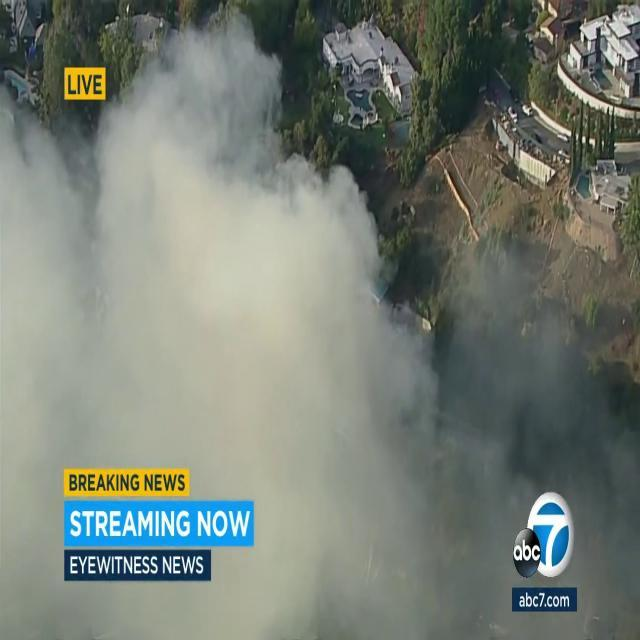Smoke: (0, 2, 634, 628)
